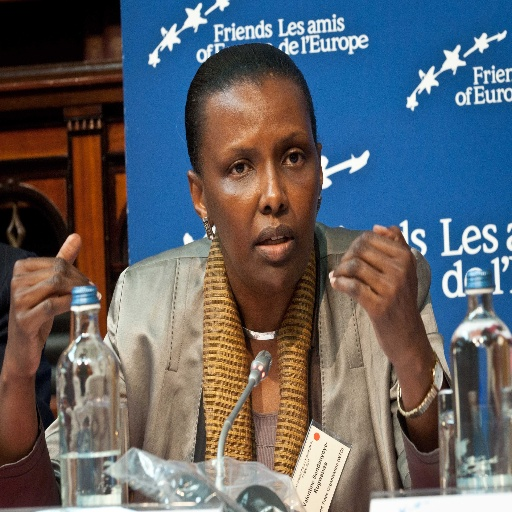hand: (336, 234, 445, 446), (5, 232, 102, 377)
